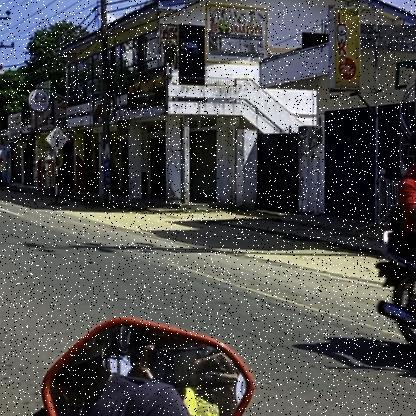motorcycle: (367, 206, 416, 396)
